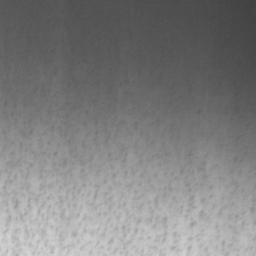Pitted surface: (4, 184, 55, 246), (150, 211, 176, 250), (115, 219, 141, 249), (181, 184, 205, 216)
